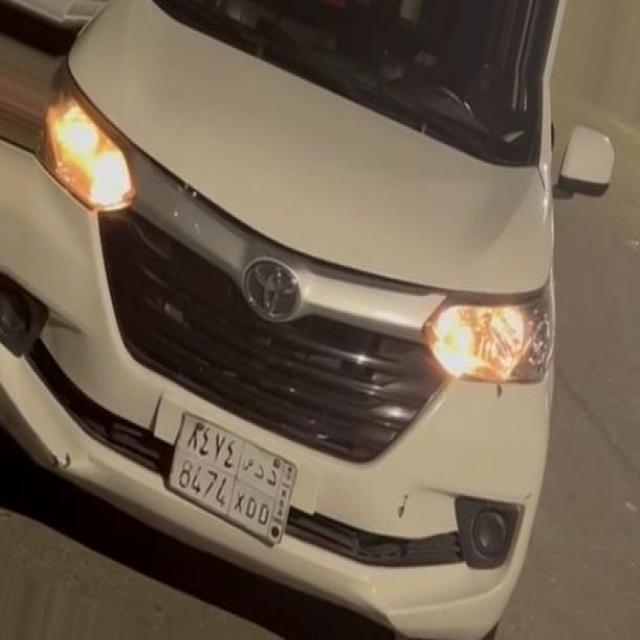Car-plate: (152, 382, 311, 563)
